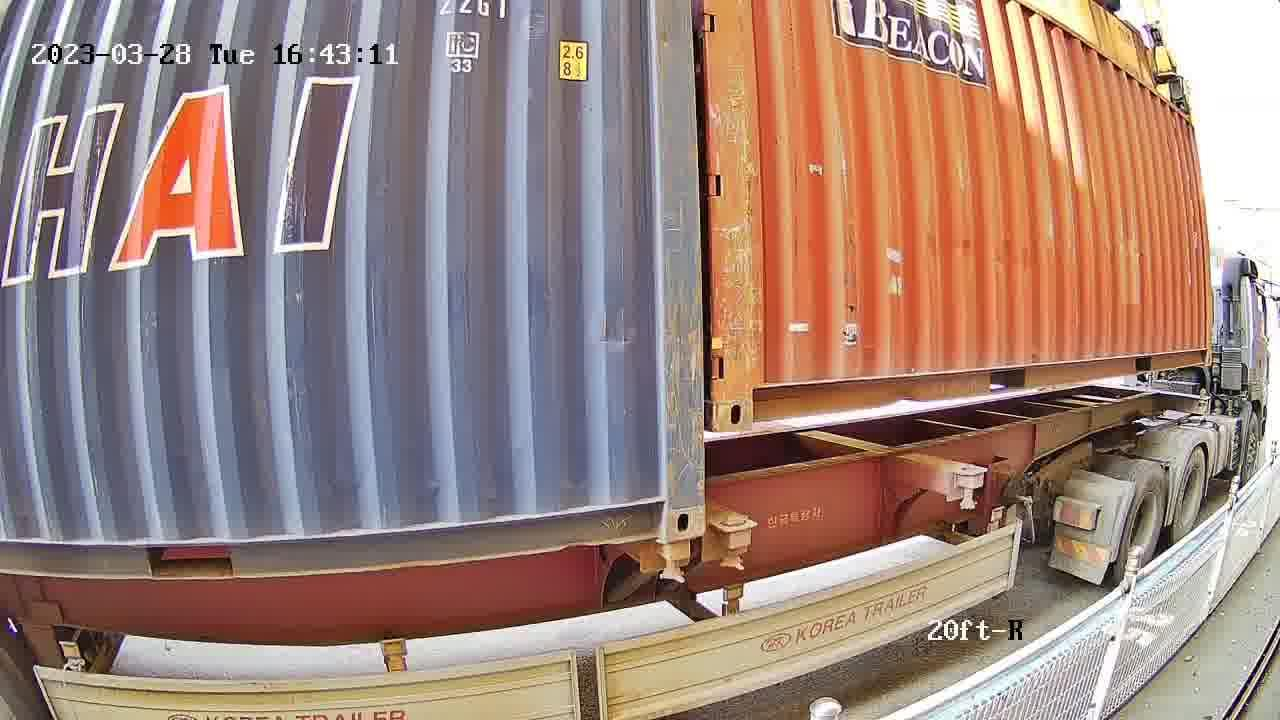Cone: (710, 513, 758, 573), (657, 540, 690, 581)
Hole_L: (717, 356, 789, 429)
Hole_R: (627, 469, 705, 542)
Tire: (1123, 466, 1166, 579), (1174, 449, 1207, 543)
